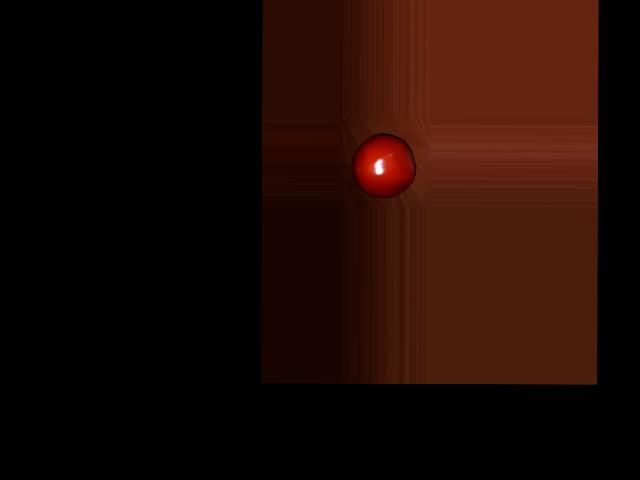tomato: (351, 134, 415, 199)
